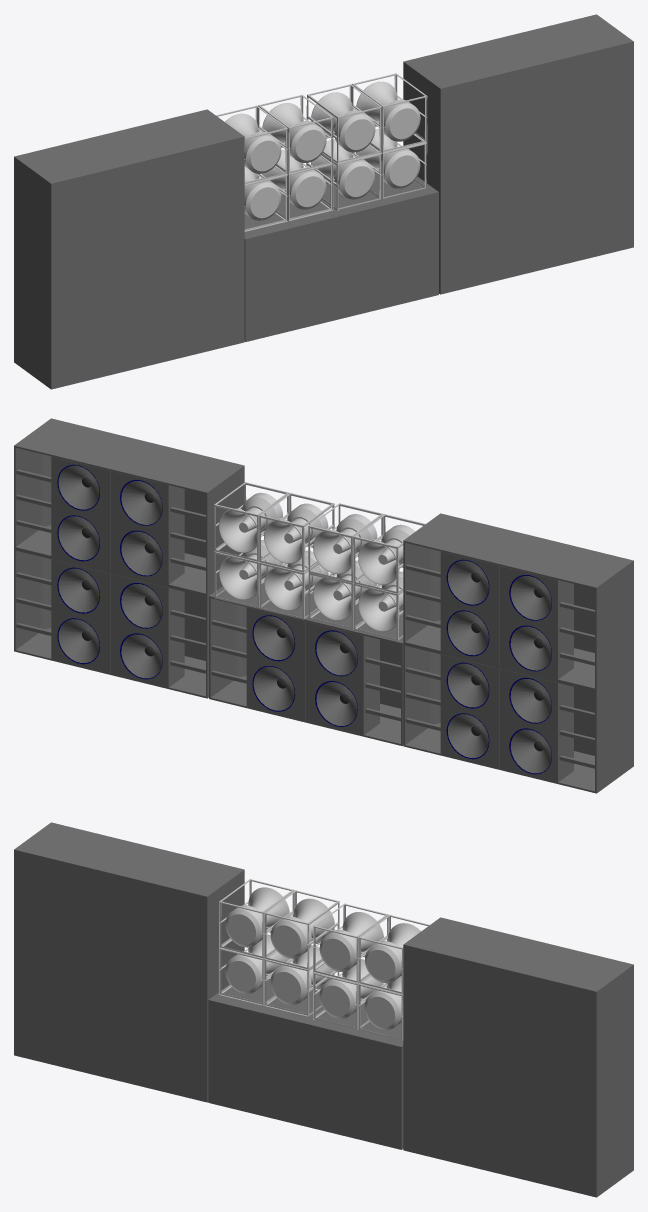
File: speaker_low_full.glb
The picture shows the model from 3 angles, top to bottom: view 1: azimuth 30°, elevation 25°; view 2: azimuth 150°, elevation 25°; view 3: azimuth 330°, elevation 25°; orthographic projection.
Visible parts, largest first — view 1: root; view 2: root; view 3: root.
Boxes of the visible parts, x1,y1,x2,y2 form: root: (14, 14, 633, 389); root: (14, 418, 633, 793); root: (14, 822, 633, 1197).
Size of the model in its own units: 7.23 by 2.44 by 0.8039.
